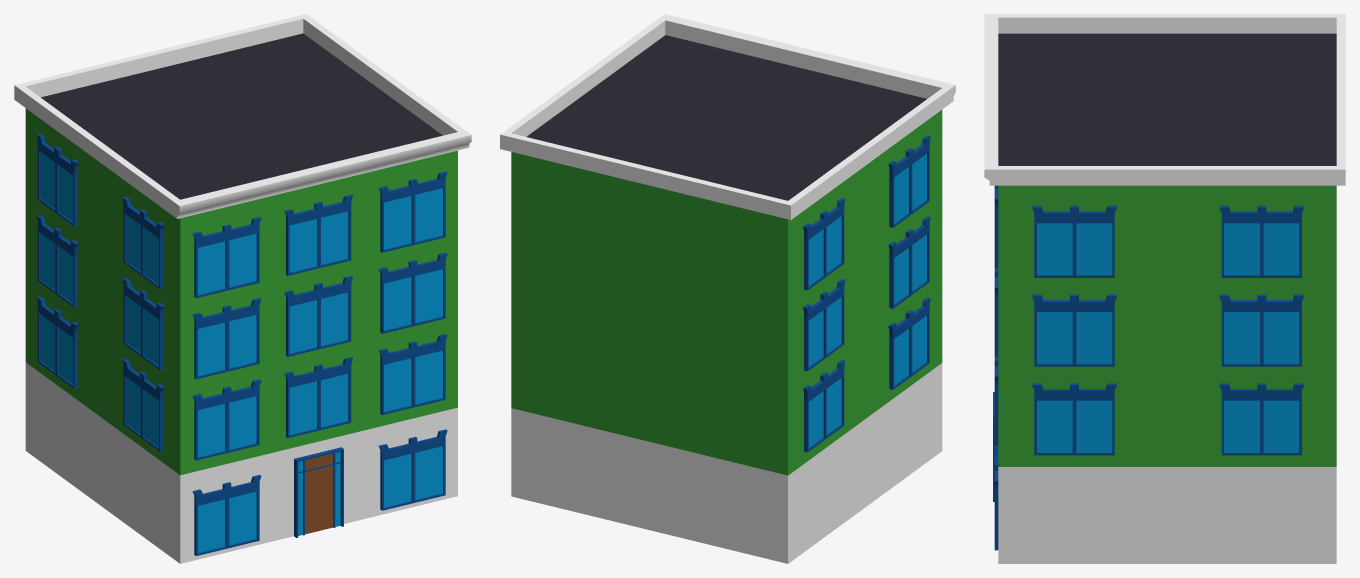
File: Building_18.fbx
3 views of the same model, side by side, from view 1: azimuth 30°, elevation 25°; view 2: azimuth 150°, elevation 25°; view 3: azimuth 270°, elevation 25° (orthographic). The views are drawn at different scales.
Parts seen in each view (by area): view 1: B18; view 2: B18; view 3: B18.
Boxes of the visible parts, x1=… form: B18: x1=14, y1=14, x2=471, y2=563; B18: x1=500, y1=14, x2=955, y2=563; B18: x1=984, y1=14, x2=1345, y2=563.
Size of the model in its own units: 14.98 by 17.86 by 14.69.
Materials: 1 (1 with a texture image).
